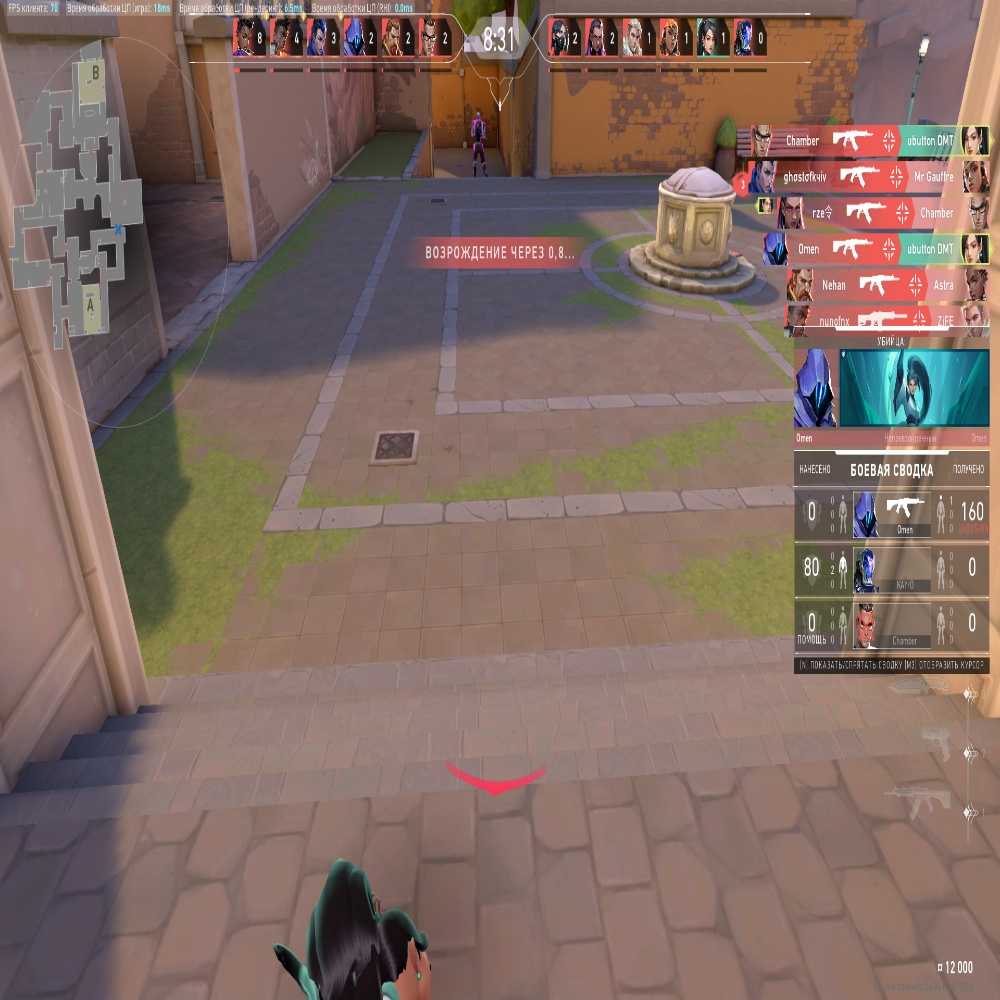body: (473, 122, 484, 144)
head: (476, 112, 481, 120)
